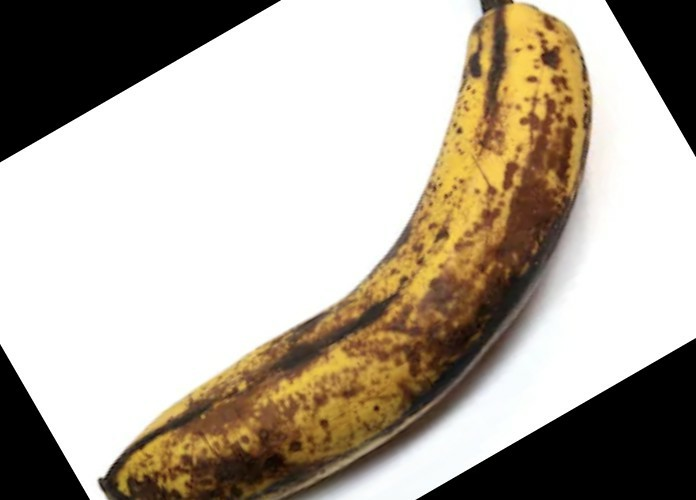rotten_banana: (110, 5, 591, 498)
